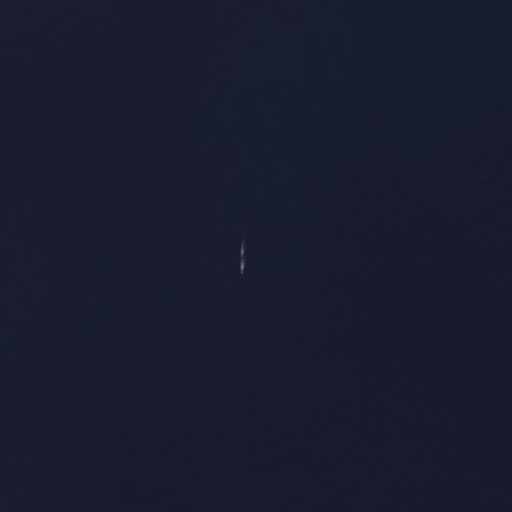ship: (236, 232, 249, 279)
